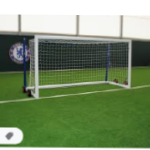goals: (25, 34, 134, 99)
